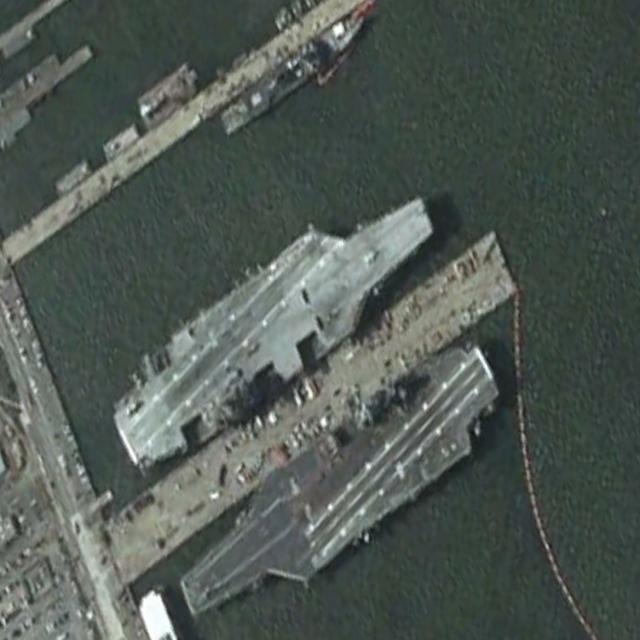Aircraft Carrier: (100, 155, 448, 493), (167, 319, 512, 640)
Other Warship: (218, 4, 367, 138)
